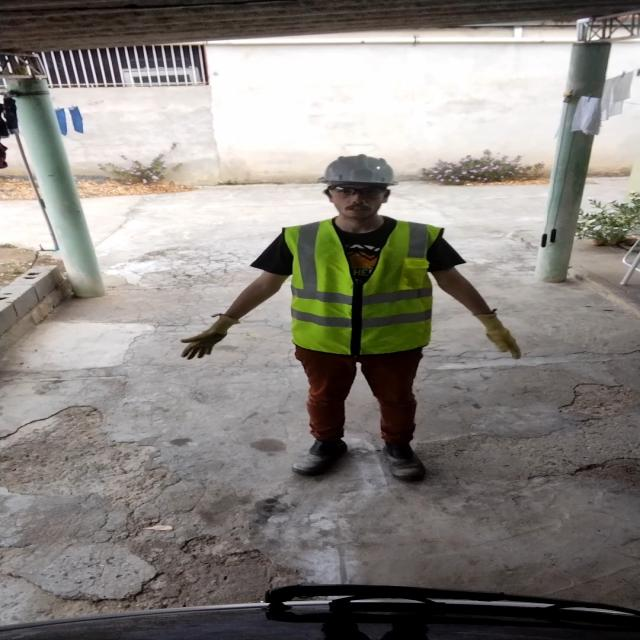glove: (175, 310, 243, 358), (471, 312, 529, 362)
helmet: (311, 152, 406, 189)
pants: (295, 347, 431, 448)
vest: (284, 216, 444, 356)
